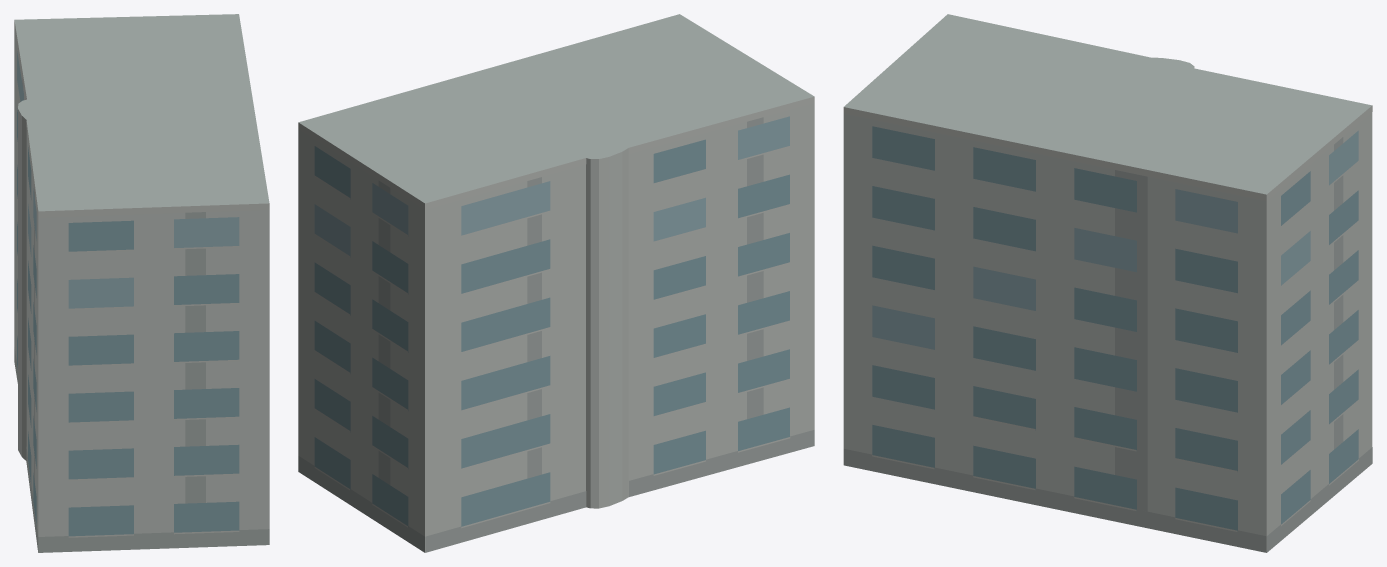
File: survey-upis-32889592.glb
3 renders of one model, left to right at view 1: azimuth 30°, elevation 25°; view 2: azimuth 150°, elevation 25°; view 3: azimuth 270°, elevation 25°, orthographic. The views are drawn at different scales.
Visible parts, largest first — view 1: survey-upis-32889592.tmp; view 2: survey-upis-32889592.tmp; view 3: survey-upis-32889592.tmp.
Part boxes in pixels (x1,y1,x2,y2): survey-upis-32889592.tmp: (14,14,269,552); survey-upis-32889592.tmp: (298,14,814,552); survey-upis-32889592.tmp: (843,14,1372,552).
Size of the model in its own units: 14.06 by 13 by 17.4.
